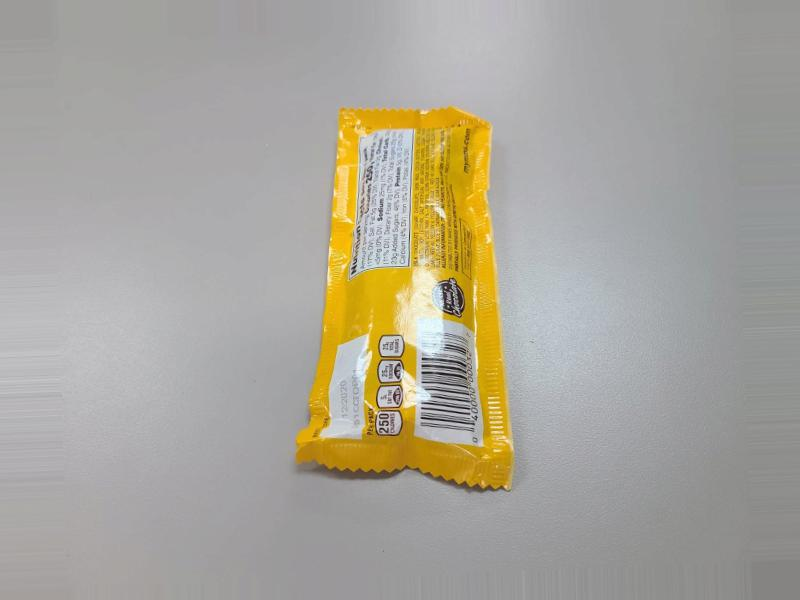m&m: (306, 88, 494, 462)
